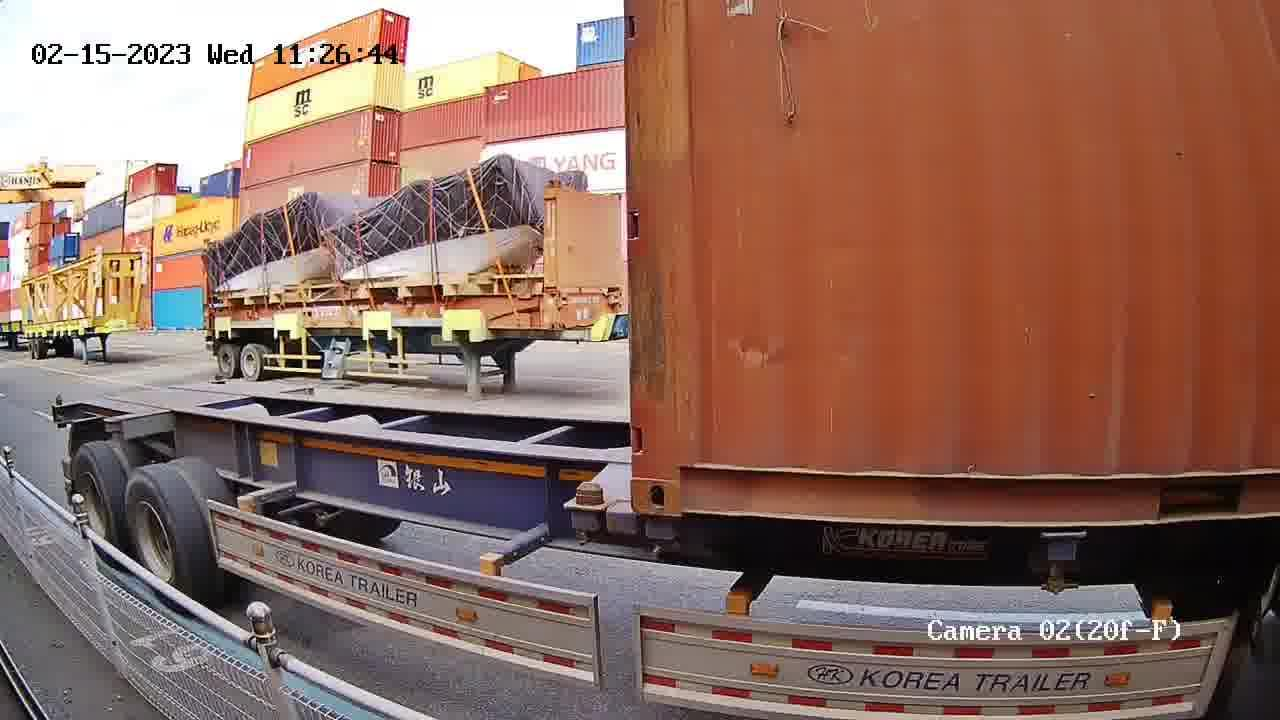Cone: (642, 514, 680, 552)
Hole_L: (632, 436, 718, 517)
Tire: (125, 468, 188, 585), (70, 449, 117, 546)
